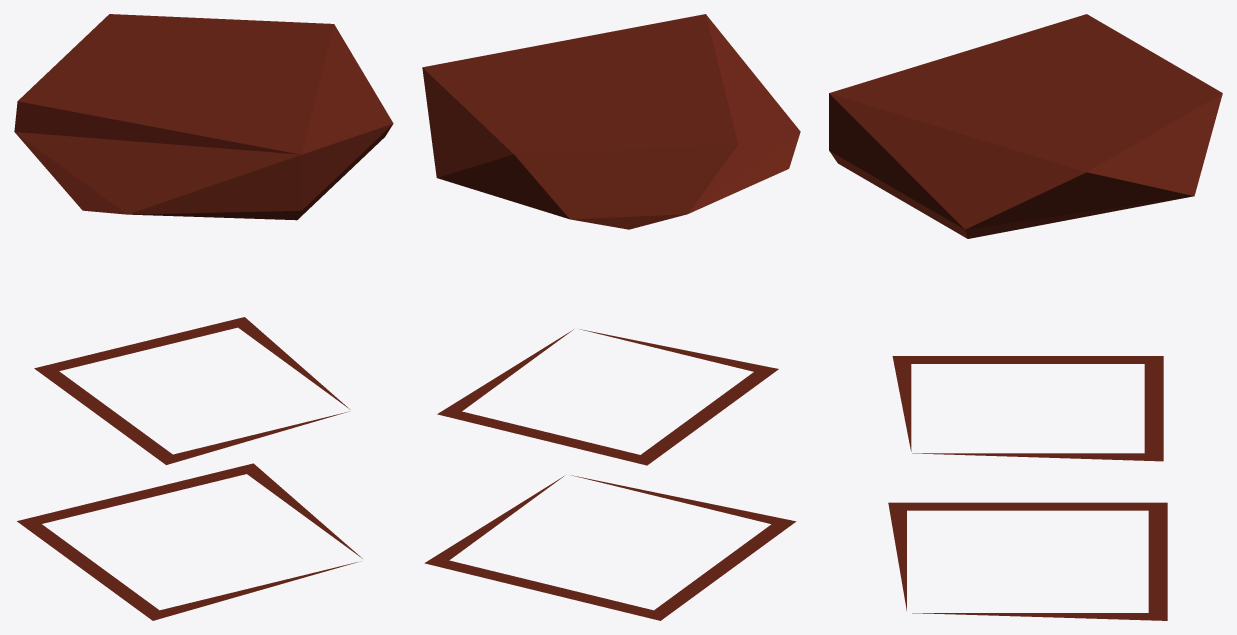
Rendered from bar-stool.lod2.glb.
The picture shows the model from 3 angles, left to right: view 1: azimuth 30°, elevation 25°; view 2: azimuth 150°, elevation 25°; view 3: azimuth 270°, elevation 25°; orthographic projection. The views are drawn at different scales.
Visible parts, largest first — view 1: Object_5; view 2: Object_5; view 3: Object_5.
Boxes of the visible parts, x1,y1,x2,y2 form: Object_5: (14, 14, 393, 620); Object_5: (422, 14, 800, 620); Object_5: (829, 14, 1222, 620).
Bounding box in the file's own units: 0.4853 × 0.6709 × 0.5102.
